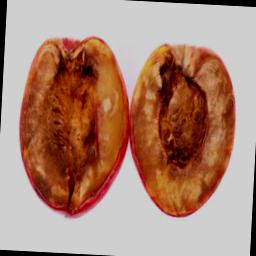Peach Rotten: (12, 27, 136, 223), (123, 32, 241, 224)
